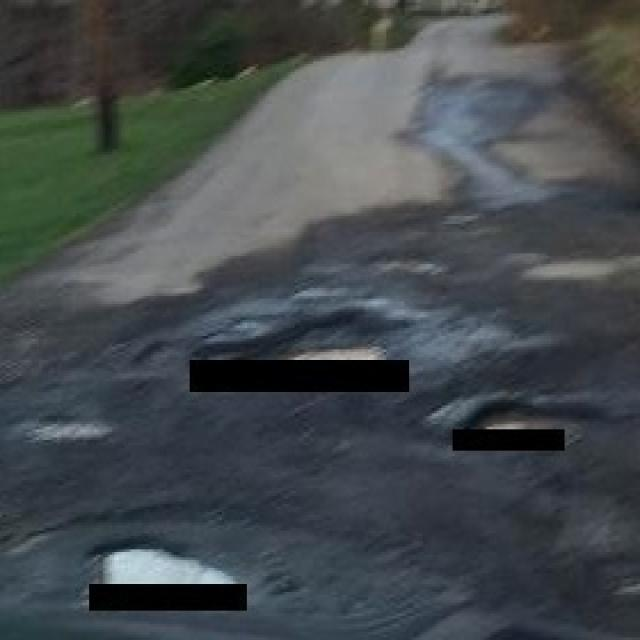road-pothole: (256, 293, 419, 361), (95, 534, 241, 584)
